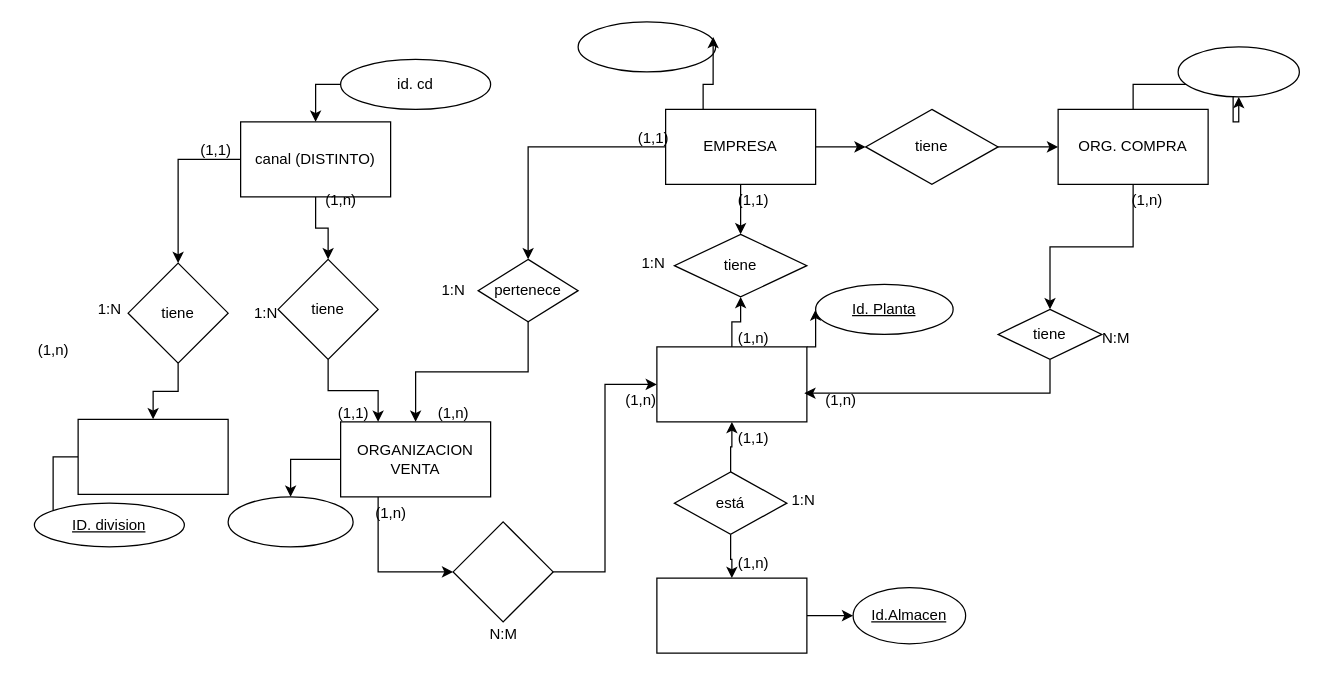
Some shapes in this 1321 by 675 pixel diagram are drawn without their labels. The box of each missing label's shape, as (x1, y1, x2, y2) in pixels:
ALMACEN: (656, 577, 807, 653)
asigna: (452, 521, 553, 622)
DIVISION: (77, 418, 228, 494)
Id. Oc: (1177, 46, 1299, 97)
id. Org, venta: (227, 496, 353, 547)
Id.Empresa: (577, 21, 716, 72)
PLANTA: (656, 346, 807, 422)
